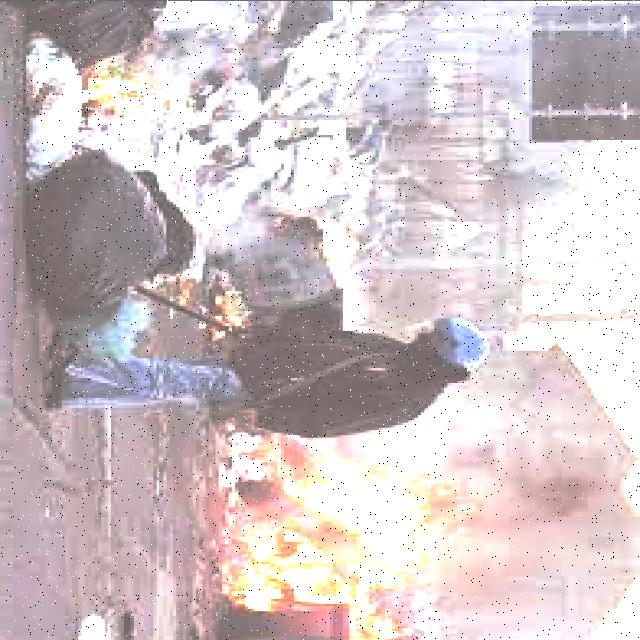api: (240, 438, 462, 622), (70, 38, 174, 130), (295, 207, 357, 289)
